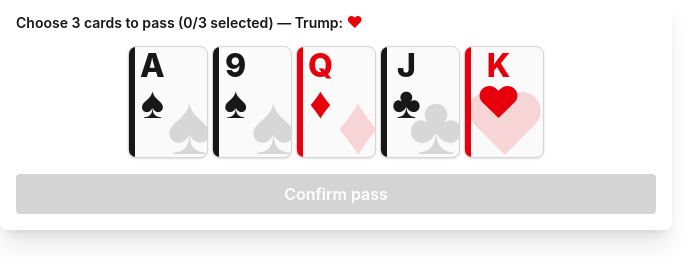
Test case: PassSelector › keeps Confirm disabled until exactly `count` cards are selected
Expected: the button "Confirm pass" is disabled, [16, 174, 656, 214]
What coordinates should you click on to do the following:
click the button named "A of S"
I would click on:
 (168, 102)
Its box is [128, 46, 208, 158].
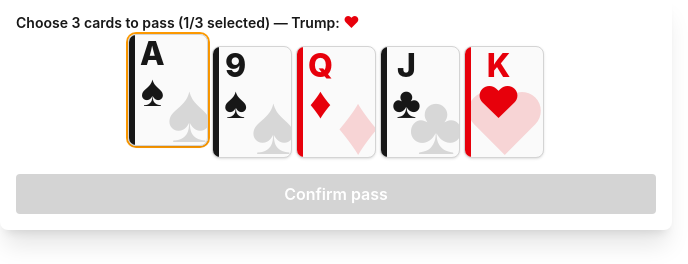
What coordinates should you click on to do the following:
click the button named "K of H"
I would click on:
 (504, 102)
Its box is [464, 46, 544, 158].
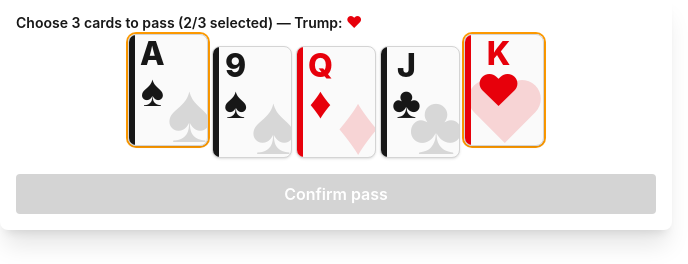
Expected: the button "Confirm pass" is disabled, [16, 174, 656, 214]
What coordinates should you click on to do the following:
click the button named "Q of D"
I would click on:
 (336, 102)
Its box is [296, 46, 376, 158].
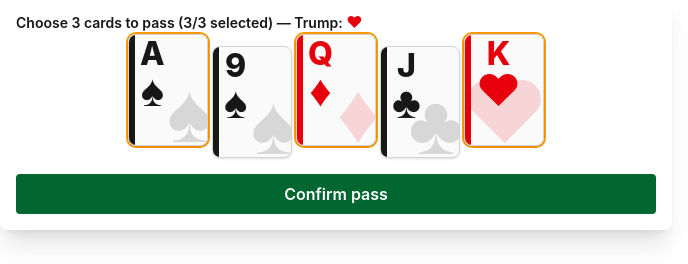
Expected: the button "Confirm pass" is enabled, [16, 174, 656, 214]
